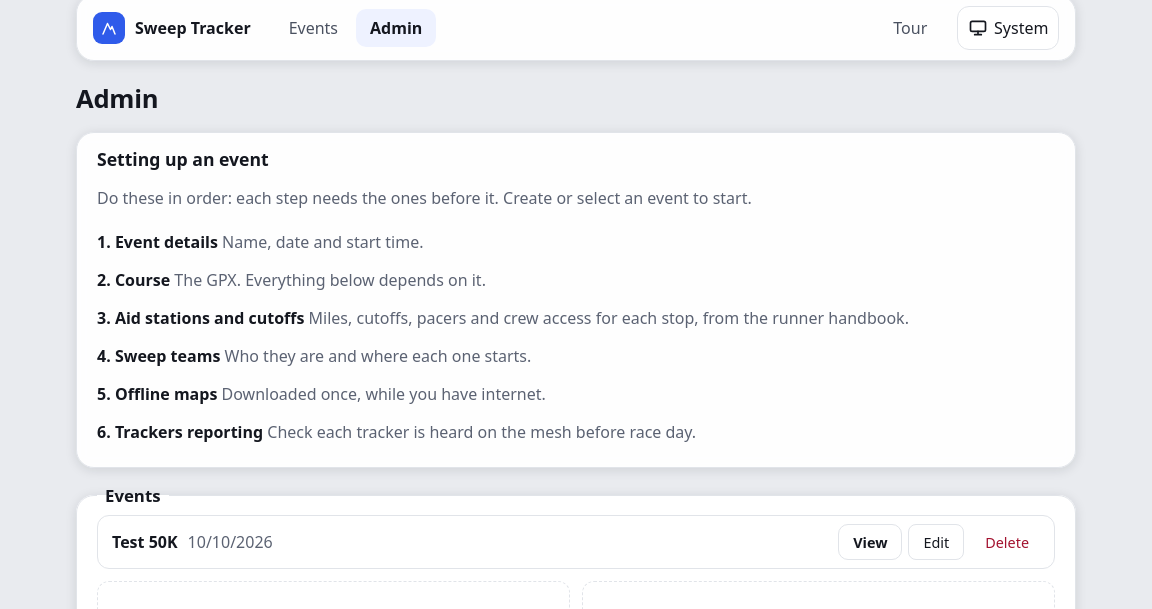
Scenario: AdminPage › gives each event explicit View, Edit and Delete actions
The width and height of the screenshot is (1152, 609).
Expected: the text "Editing" is not shown
Expected: the button with aria-label "Delete Test 50K" is shown, [970,524,1044,560]
Click the button with aria-label "Edit Test 50K": (936, 542) [908,524,964,560]
(page scrolled)
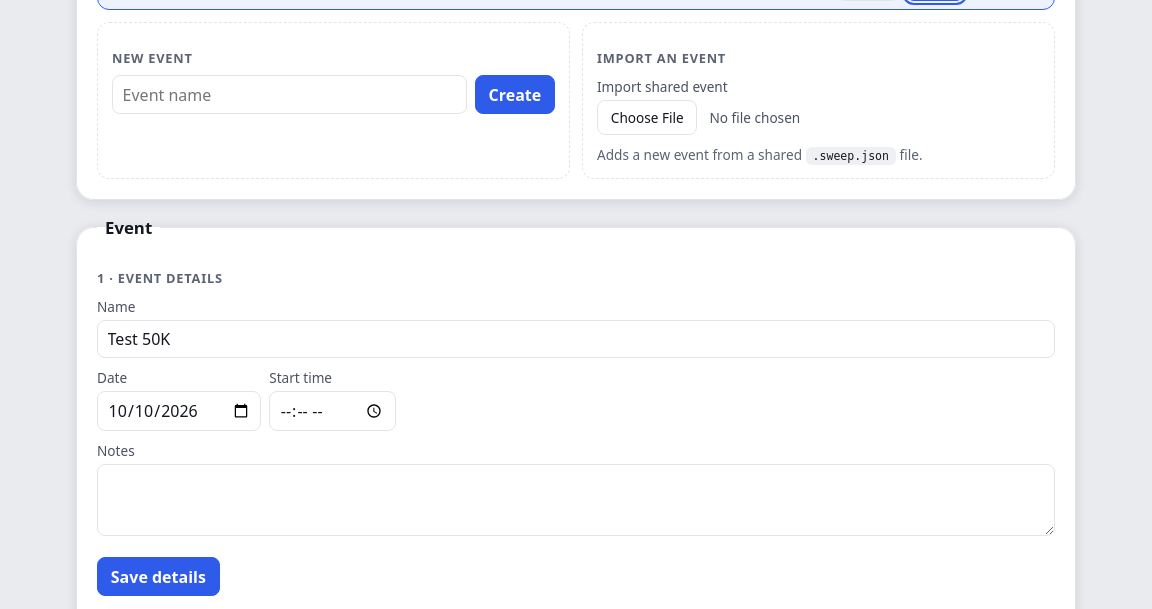
Now the field showing "Test 50K" is shown, box [97,320,1055,358]
